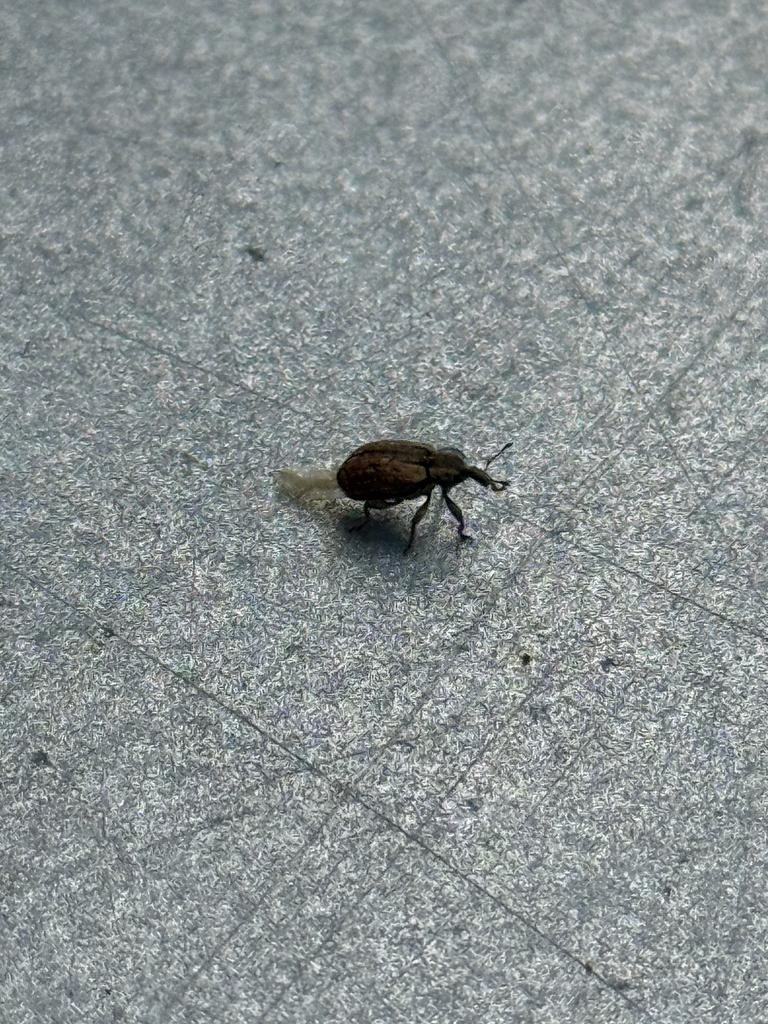weevils: (289, 393, 550, 586)
